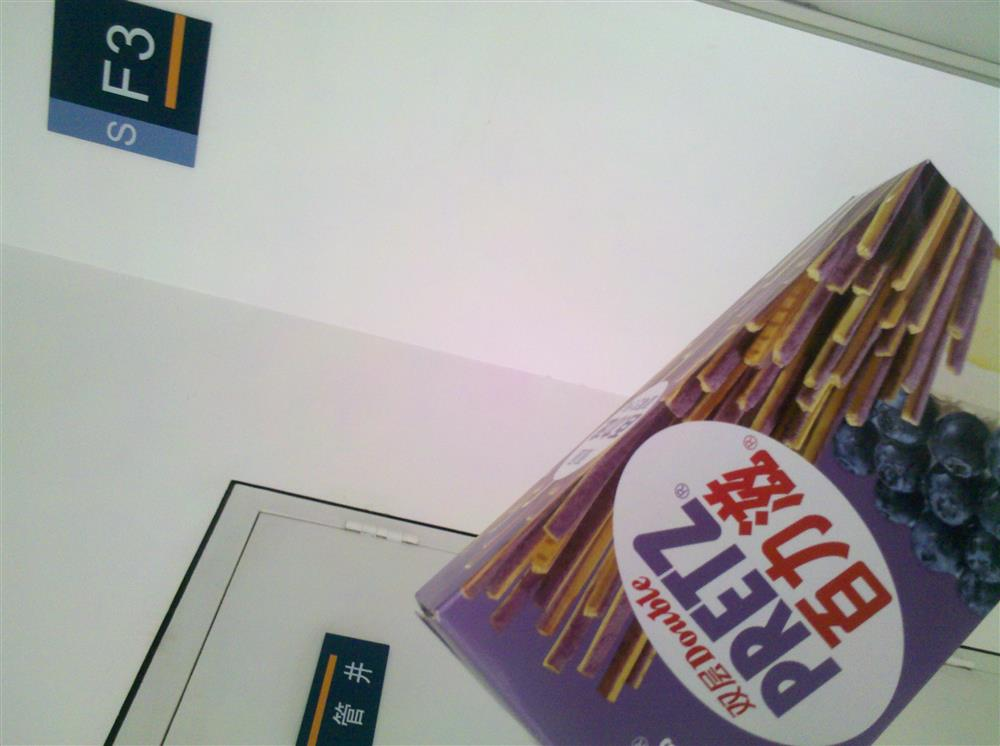Pretz: (428, 153, 985, 737)
